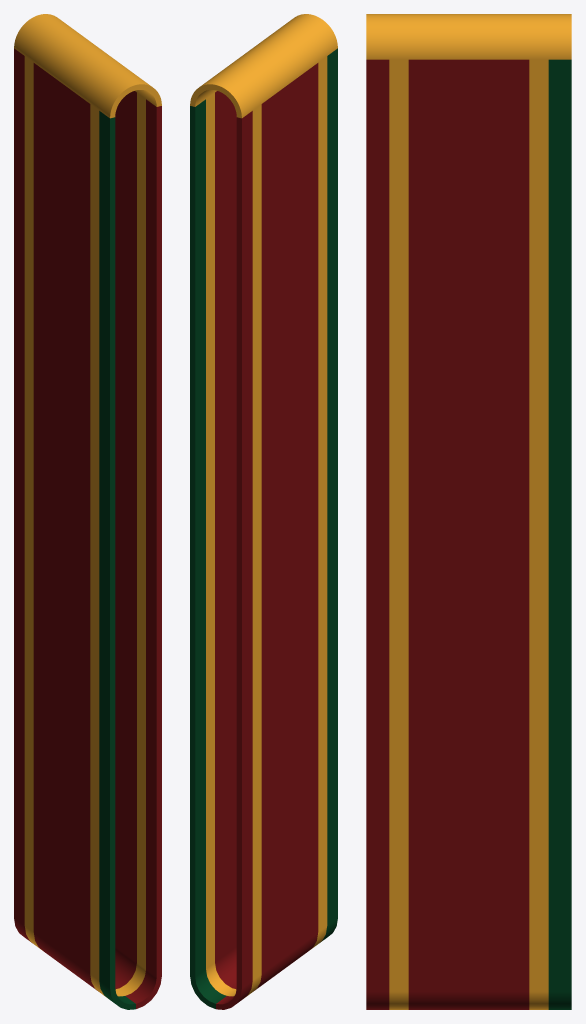
File: Sablay.glb
The picture shows the model from 3 angles, left to right: view 1: azimuth 30°, elevation 25°; view 2: azimuth 150°, elevation 25°; view 3: azimuth 270°, elevation 25°; orthographic projection. The views are drawn at different scales.
Visible parts, largest first — view 1: MaroonMiddle.001, YellowLeft, BackGreenLeft, FrontMaroonLeft, BackMaroonRight, YellowRight, YellowTop; view 2: MaroonMiddle.001, YellowRight, BackMaroonRight, FrontGreenRight, BackGreenLeft, YellowLeft, YellowTop; view 3: MaroonMiddle.001, FrontMaroonLeft, FrontGreenRight, YellowRight, YellowLeft, YellowTop.
Boxes of the visible parts, <box> form: MaroonMiddle.001: <box>33,63,136,991</box>; YellowLeft: <box>90,93,145,996</box>; BackGreenLeft: <box>99,111,135,1009</box>; FrontMaroonLeft: <box>125,99,161,1008</box>; BackMaroonRight: <box>14,48,32,943</box>; YellowRight: <box>24,56,42,950</box>; YellowTop: <box>14,14,161,118</box>; MaroonMiddle.001: <box>215,63,318,991</box>; YellowRight: <box>206,93,261,996</box>; BackMaroonRight: <box>216,111,252,1009</box>; FrontGreenRight: <box>190,99,226,1008</box>; BackGreenLeft: <box>319,48,337,943</box>; YellowLeft: <box>309,56,327,950</box>; YellowTop: <box>190,14,337,118</box>; MaroonMiddle.001: <box>408,59,529,1009</box>; FrontMaroonLeft: <box>366,59,389,1009</box>; FrontGreenRight: <box>548,59,571,1009</box>; YellowRight: <box>529,59,548,1009</box>; YellowLeft: <box>389,59,408,1009</box>; YellowTop: <box>366,14,571,59</box>.
Size of the model in its own units: 2.5 by 42.5 by 8.
